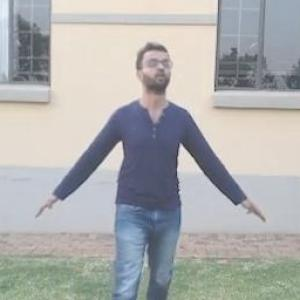land: (26, 33, 246, 299)
